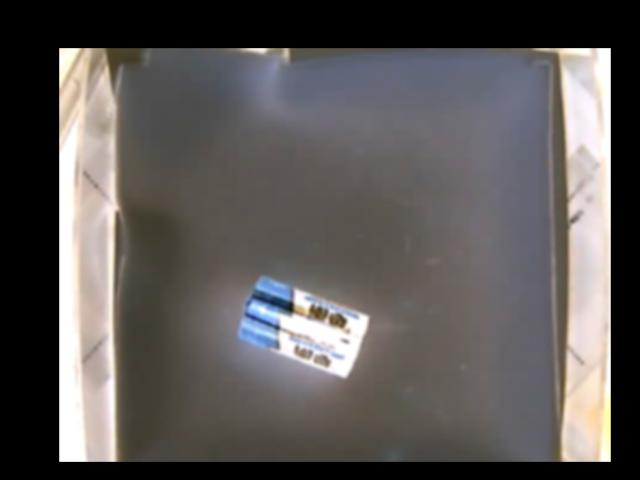Battery: (236, 274, 368, 377)
